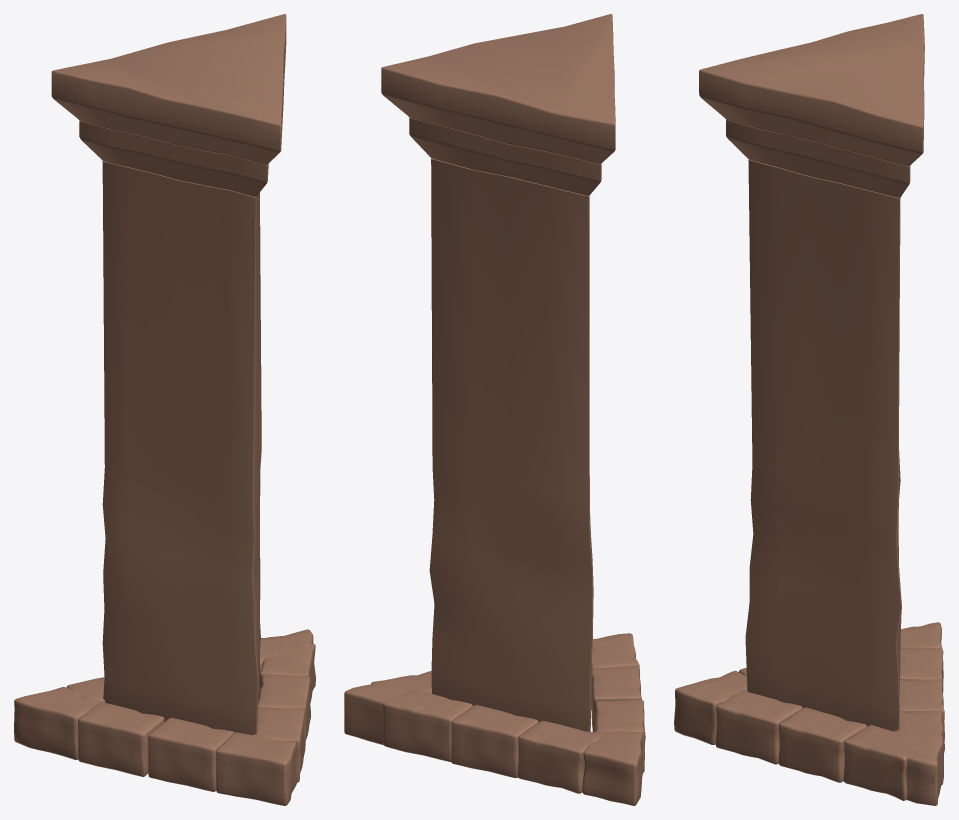
File: fbx_Brazier_Stone_01.fbx
3 views of the same model, side by side, from view 1: azimuth 30°, elevation 25°; view 2: azimuth 150°, elevation 25°; view 3: azimuth 270°, elevation 25° (orthographic).
Visible parts, largest first — view 1: Cube.001; view 2: Cube.001; view 3: Cube.001.
Part boxes in pixels (box(x1,y1,x2,y2)): Cube.001: box(14, 14, 315, 805); Cube.001: box(344, 14, 645, 805); Cube.001: box(674, 14, 944, 805).
Bounding box in the file's own units: 86.1 × 188 × 69.12.
